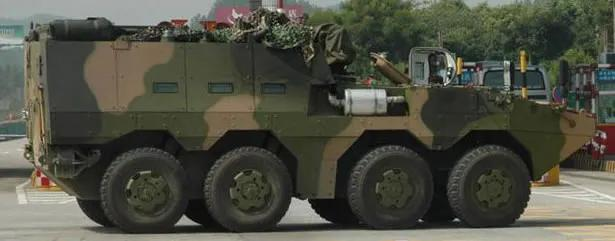MIL_IFV: (25, 12, 599, 234)
